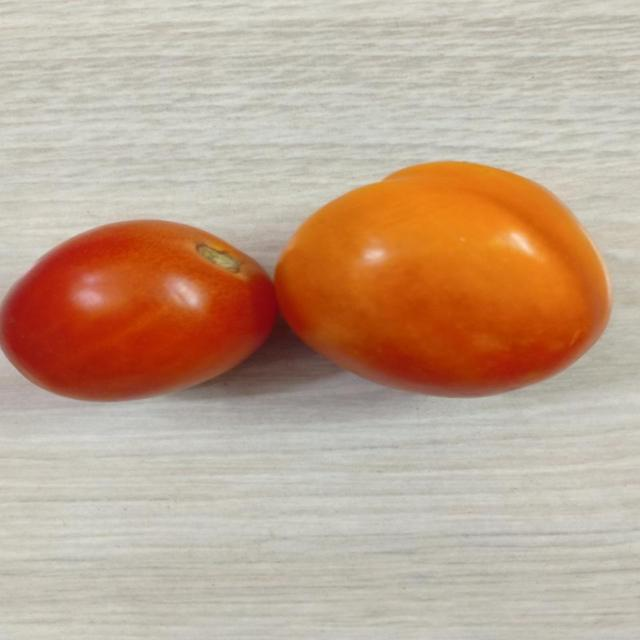Healthy Fruit: (91, 130, 299, 208)
